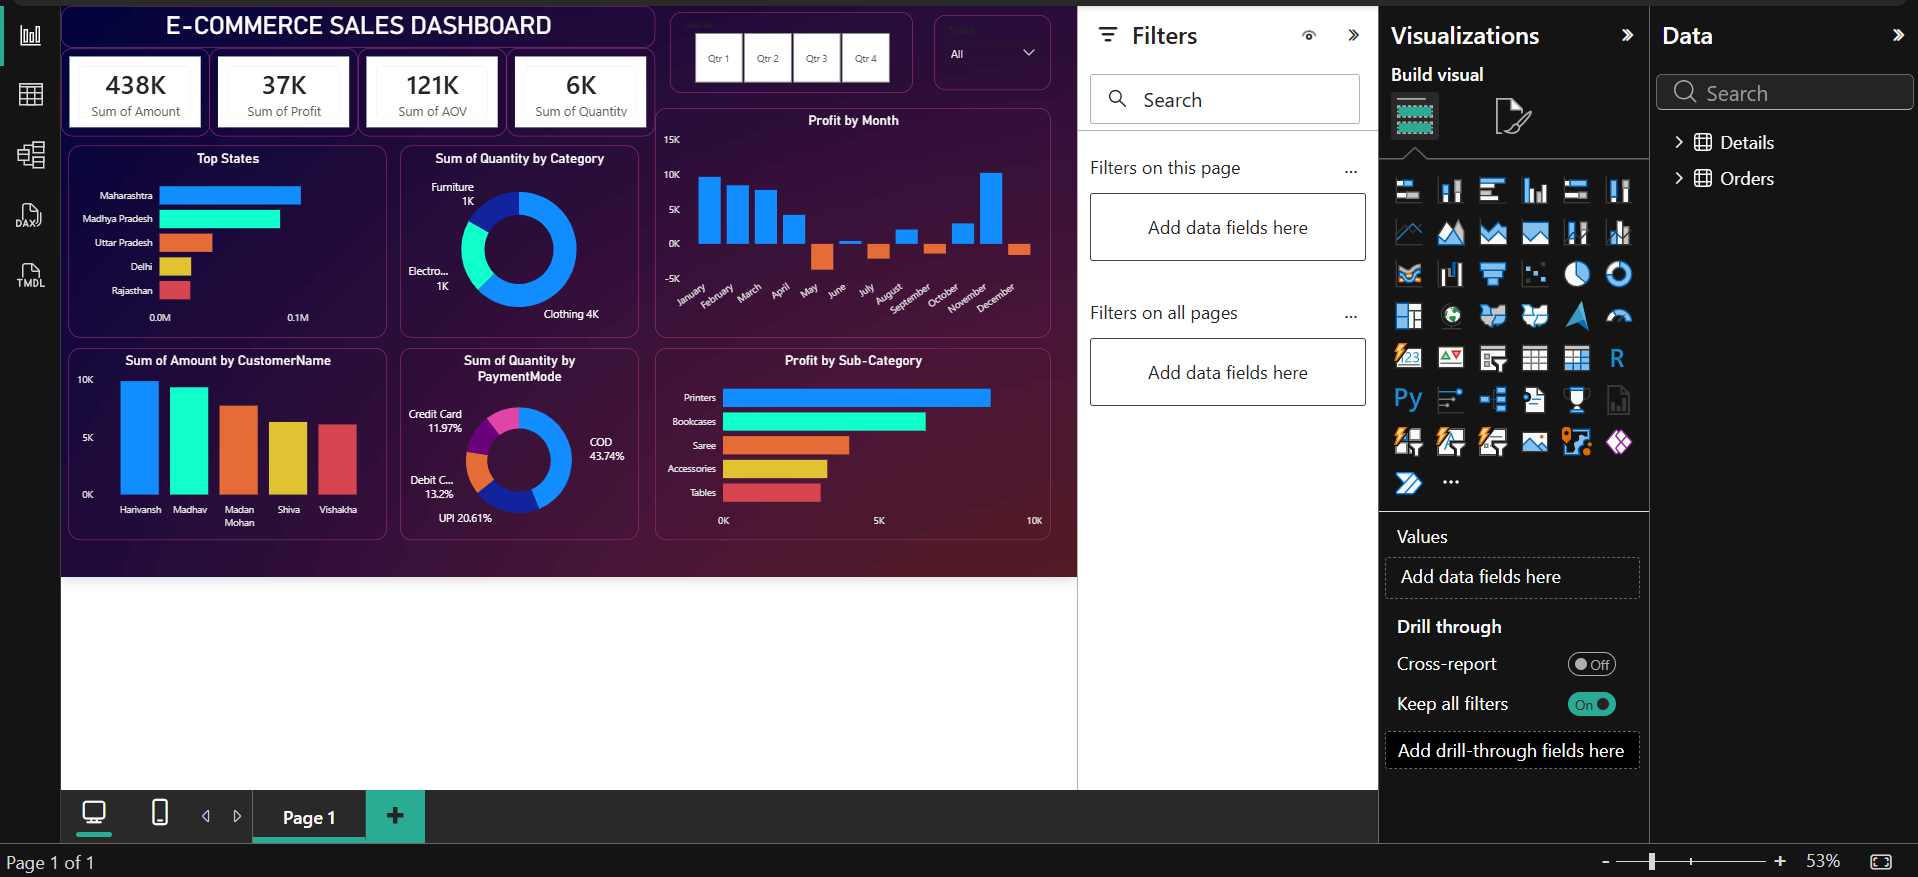

The page's visual inventory and layout, read from the dashboard file:
{"tool":"powerbi","page":{"name":"Page 1","canvas":[1280,720],"ordinal":0},"visuals":[{"type":"textbox","title":"E-COMMERCE SALES DASHBOARD","box":[0,0,748.4,52.9],"z":0},{"type":"columnChart","title":"Profit by Month","fields":{"Category":["Orders.Order Date.Variation.Date Hierarchy.Month"],"Y":["Sum(Details.Profit)"]},"box":[748.4,128.5,498.9,289.1],"z":1},{"type":"barChart","title":"Profit by Sub-Category","fields":{"Category":["Details.Sub-Category"],"Y":["Sum(Details.Profit)"]},"box":[748.4,430.9,498.9,241.9],"z":2},{"type":"donutChart","fields":{"Category":["Details.Category"],"Y":["Sum(Details.Quantity)"]},"box":[427.1,175.7,300.5,241.9],"z":3},{"type":"donutChart","fields":{"Y":["Sum(Details.Quantity)"],"Category":["Details.PaymentMode"]},"box":[427.1,430.9,300.5,241.9],"z":4},{"type":"cardVisual","fields":{"Data":["Sum(Details.Quantity)"]},"box":[561.3,52.9,187.1,111.5],"z":7},{"type":"cardVisual","fields":{"Data":["Sum(Details.Profit)"]},"box":[187.1,52.9,187.1,111.5],"z":8},{"type":"cardVisual","fields":{"Data":["Sum(Details.AOV)"]},"box":[374.2,52.9,187.1,111.5],"z":9},{"type":"cardVisual","fields":{"Data":["Sum(Details.Amount)"]},"box":[0,52.9,187.1,111.5],"z":10},{"type":"barChart","title":"Top States","fields":{"Y":["Sum(Details.Amount)"],"Category":["Orders.State"]},"box":[9.4,175.7,400.6,241.9],"z":11},{"type":"columnChart","fields":{"Category":["Orders.CustomerName"],"Y":["Sum(Details.Amount)"]},"box":[9,431,401,242],"z":12},{"type":"slicer","fields":{"Values":["Orders.Order Date.Variation.Date Hierarchy.Quarter"]},"box":[767.2,7.6,306.1,102],"z":13},{"type":"slicer","fields":{"Values":["Orders.State"]},"box":[1099.9,11.3,147.4,94.5],"z":14}]}

Visuals, with their boxes on the page's 1280x720 design canvas (x1, y1, x2, y2). These are canvas units, not pixel positions in the 1918x877 screenshot, which may show the page scaled, cropped or inside an application window:
"E-COMMERCE SALES DASHBOARD" textbox: left=0, top=0, right=748, bottom=53
"Profit by Month" columnChart: left=748, top=128, right=1247, bottom=418
"Profit by Sub-Category" barChart: left=748, top=431, right=1247, bottom=673
donutChart - Details.Category x Sum(Details.Quantity): left=427, top=176, right=728, bottom=418
donutChart - Sum(Details.Quantity) x Details.PaymentMode: left=427, top=431, right=728, bottom=673
cardVisual - Sum(Details.Quantity): left=561, top=53, right=748, bottom=164
cardVisual - Sum(Details.Profit): left=187, top=53, right=374, bottom=164
cardVisual - Sum(Details.AOV): left=374, top=53, right=561, bottom=164
cardVisual - Sum(Details.Amount): left=0, top=53, right=187, bottom=164
"Top States" barChart: left=9, top=176, right=410, bottom=418
columnChart - Orders.CustomerName x Sum(Details.Amount): left=9, top=431, right=410, bottom=673
slicer - Orders.Order Date.Variation.Date Hierarchy.Quarter: left=767, top=8, right=1073, bottom=110
slicer - Orders.State: left=1100, top=11, right=1247, bottom=106
